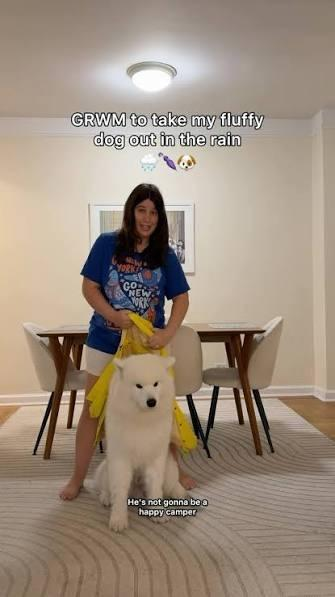adult_dog: (85, 354, 177, 532)
non-dog: (57, 183, 201, 502)
